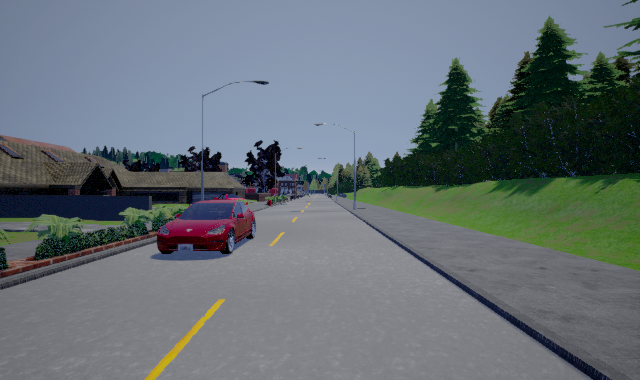vehicle: (157, 194, 256, 254)
